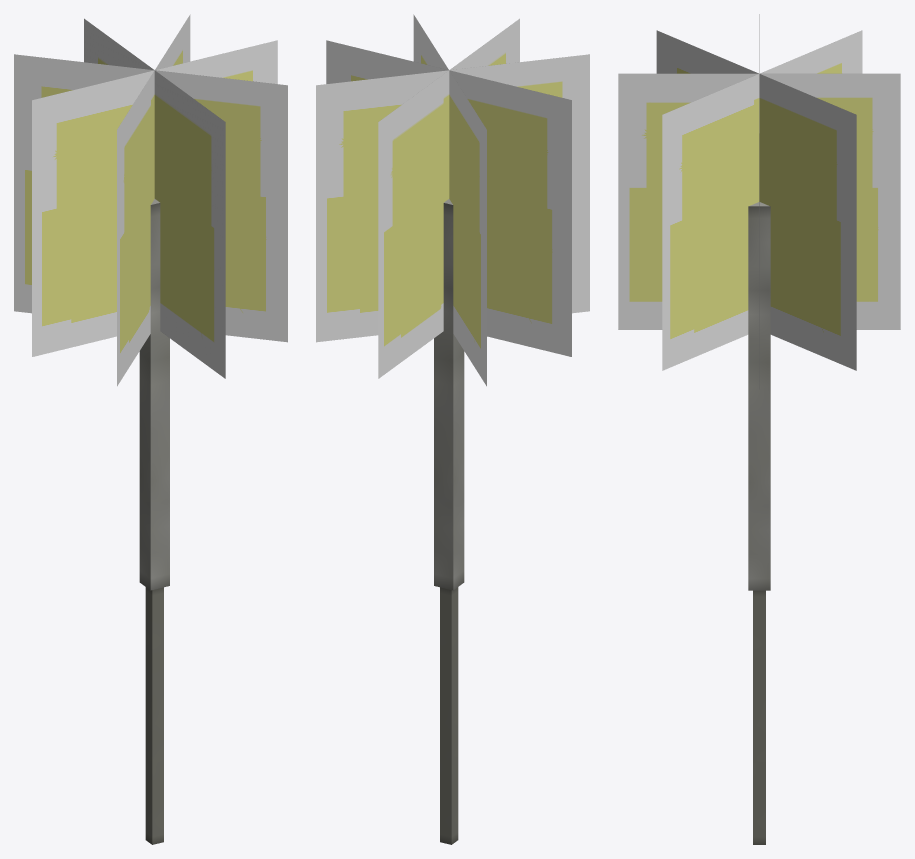
File: CubikModel.obj
3 views of the same model, side by side, from view 1: azimuth 30°, elevation 25°; view 2: azimuth 150°, elevation 25°; view 3: azimuth 270°, elevation 25° (orthographic).
Visible parts, largest first — view 1: Element #5, Element #4, Element #3, Element #6, Element #2, Element #1; view 2: Element #5, Element #6, Element #3, Element #4, Element #2, Element #1; view 3: Element #3, Element #4, Element #6, Element #2, Element #1.
Boxes of the visible parts, x1,y1,x2,y2 form: Element #5: [32, 40, 277, 356]; Element #4: [14, 54, 287, 342]; Element #3: [84, 18, 225, 378]; Element #6: [117, 14, 190, 386]; Element #2: [139, 199, 169, 590]; Element #1: [145, 587, 163, 844]; Element #5: [326, 40, 571, 356]; Element #6: [316, 54, 589, 342]; Element #3: [378, 18, 519, 378]; Element #4: [413, 14, 486, 386]; Element #2: [434, 199, 464, 590]; Element #1: [440, 587, 458, 844]; Element #3: [618, 73, 900, 329]; Element #4: [662, 30, 862, 370]; Element #6: [656, 30, 856, 370]; Element #2: [748, 202, 770, 590]; Element #1: [753, 590, 765, 844].
Bounding box in the file's own units: 16 × 48 × 16.
Materials: 1 (1 with a texture image).
